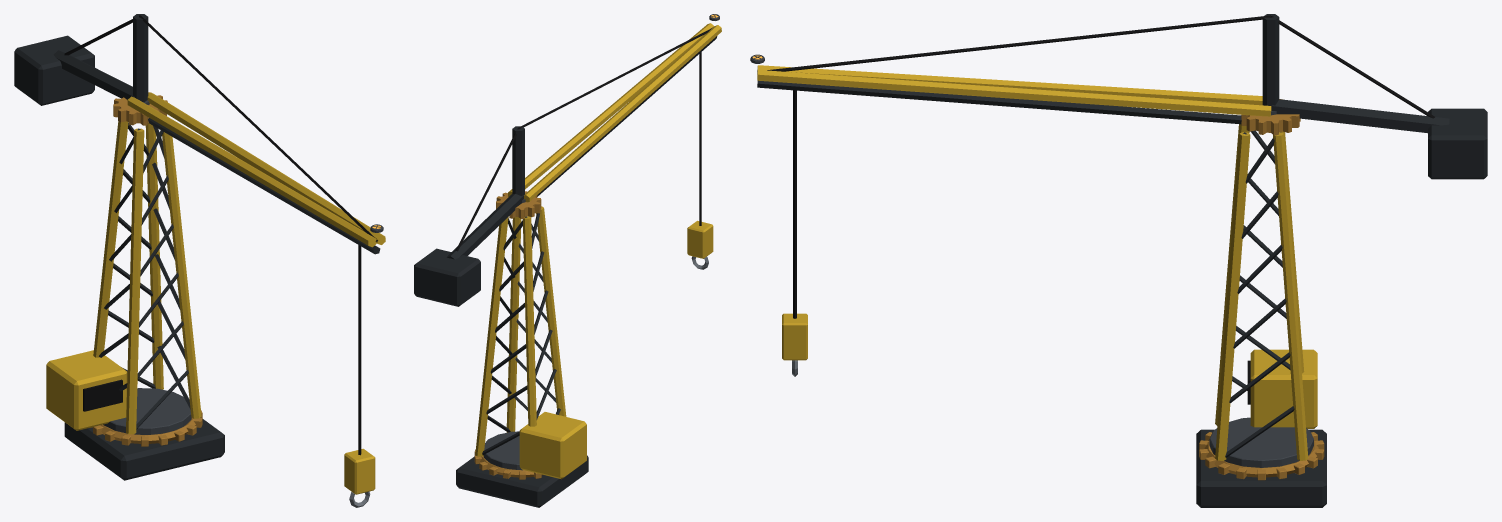
File: cog_crane.fbx
3 views of the same model, side by side, from view 1: azimuth 30°, elevation 25°; view 2: azimuth 150°, elevation 25°; view 3: azimuth 270°, elevation 25° (orthographic). The views are drawn at different scales.
Parts seen in each view (by area): view 1: Body; view 2: Body; view 3: Body.
Boxes of the visible parts, x1,y1,x2,y2 form: Body: [14, 14, 385, 507]; Body: [414, 14, 721, 507]; Body: [750, 14, 1487, 507].
Bounding box in the file's own units: 8.5 × 27.6 × 39.49.
2 materials, 1 textured.
